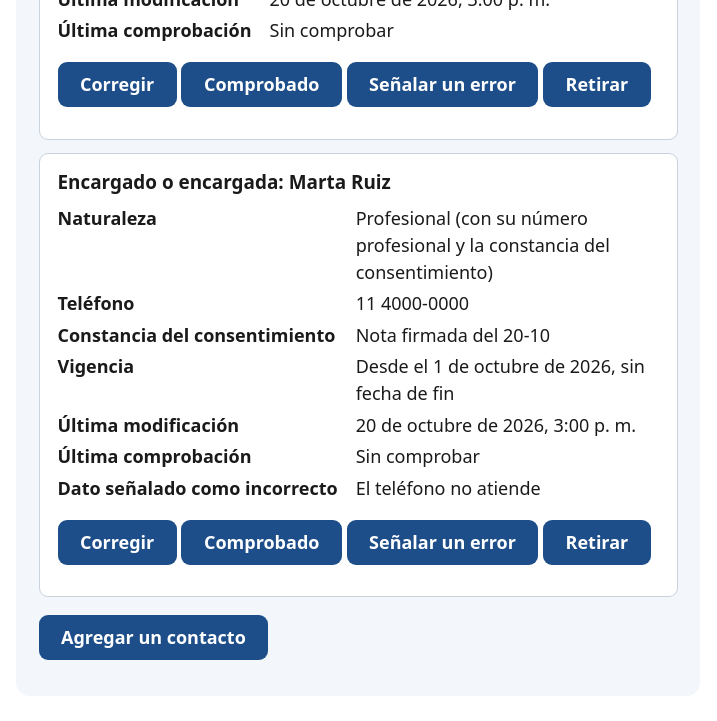
página /contactos/gestion › corregir arranca con los datos del contacto y manda un PUT con todos los campos
(page scrolled)
Click the button "Corregir" below "11 4000-0000": (117, 542) left=58, top=520, right=177, bottom=565
(page scrolled)
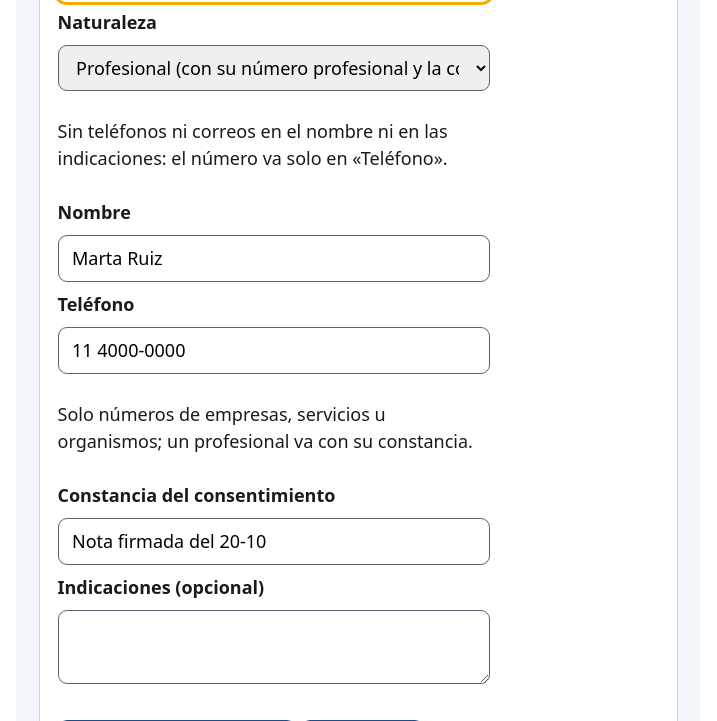
Expected: the field labelled "Nombre" holds "Marta Ruiz", left=58, top=235, right=490, bottom=282
Expected: the field labelled "Constancia del consentimiento" holds "Nota firmada del 20-10", left=58, top=518, right=490, bottom=565
Replace the text in the field labelled "Teléfono" with "11 4000-0001": (274, 351) left=58, top=327, right=490, bottom=374
(page scrolled)
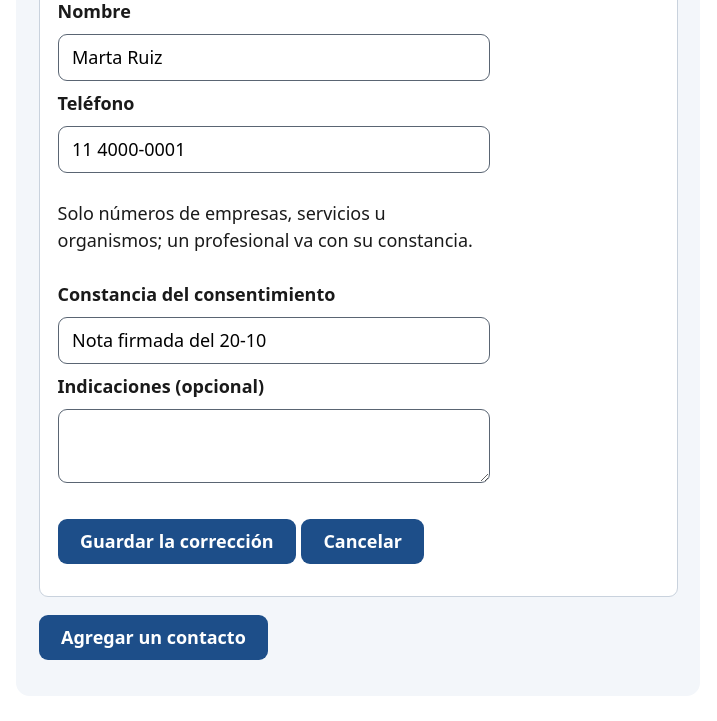
Click the button "Guardar la corrección": (177, 542) left=58, top=519, right=296, bottom=564
(page scrolled)
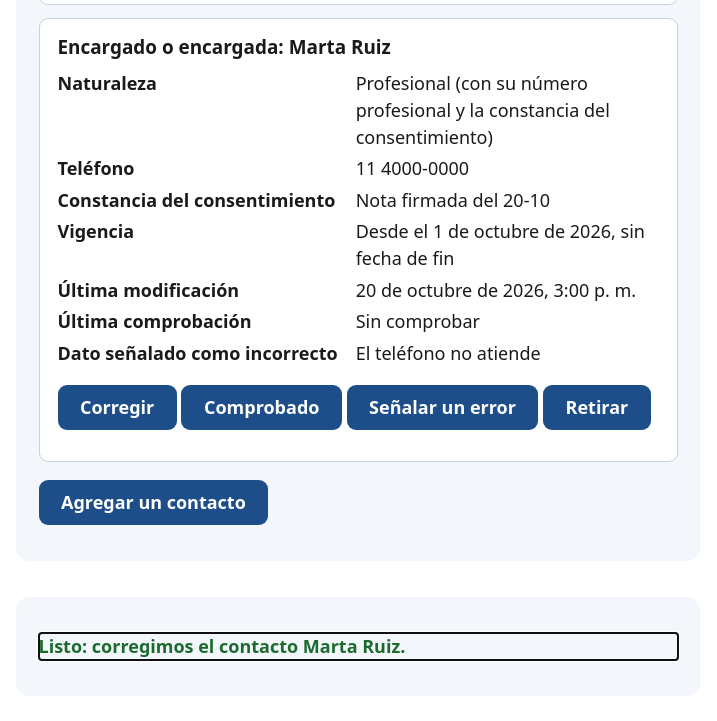
Expected: the text "Listo: corregimos el contacto Marta Ruiz." is shown, left=38, top=634, right=405, bottom=658
